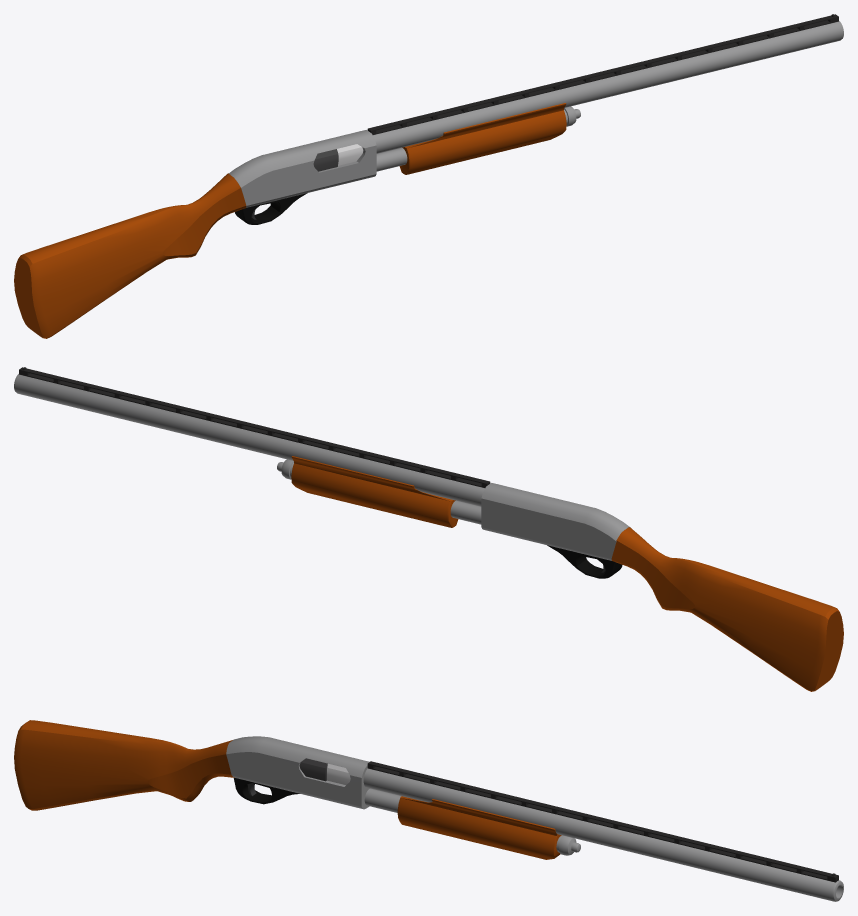
Rendered from Remington870_Mesh.fbx.
3 renders of one model, top to bottom at view 1: azimuth 30°, elevation 25°; view 2: azimuth 150°, elevation 25°; view 3: azimuth 330°, elevation 25°, orthographic.
Visible parts, largest first — view 1: Remington870; view 2: Remington870; view 3: Remington870.
Part boxes in pixels (x1,y1,x2,y2): Remington870: (14, 14, 843, 338); Remington870: (14, 367, 843, 691); Remington870: (14, 720, 843, 901).
Size of the model in its own units: 1.02 by 0.15 by 0.0434.
